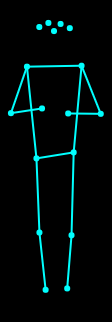mountain: (5, 16, 107, 295)
